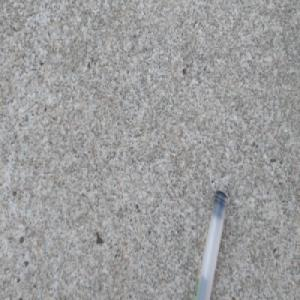Pen: (195, 186, 228, 300)
